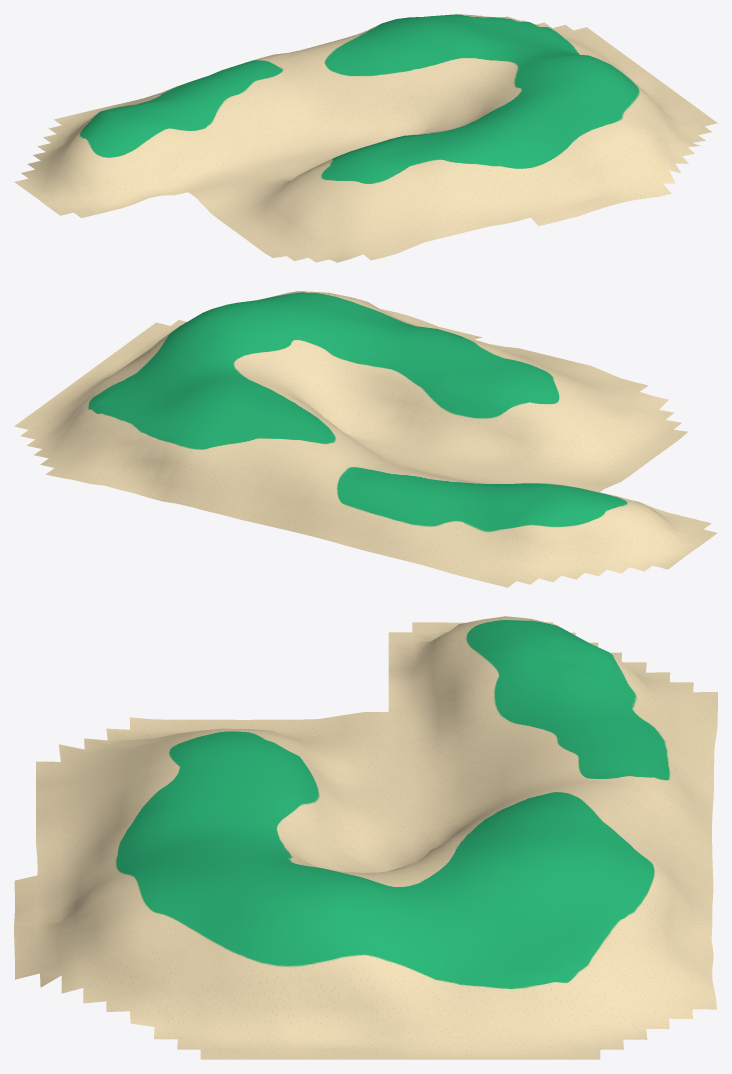
The model's file is StiltTown_Island.fbx.
3 views of the same model, one above another, from view 1: azimuth 30°, elevation 25°; view 2: azimuth 150°, elevation 25°; view 3: azimuth 270°, elevation 25° (orthographic). The views are drawn at different scales.
Visible parts, largest first — view 1: pPlane1; view 2: pPlane1; view 3: pPlane1.
Part boxes in pixels (<box>): pPlane1: <box>14,14,717,262</box>; pPlane1: <box>14,291,717,587</box>; pPlane1: <box>14,616,717,1059</box>.
Bounding box in the file's own units: 359 × 37.13 × 244.
1 material, 1 textured.
